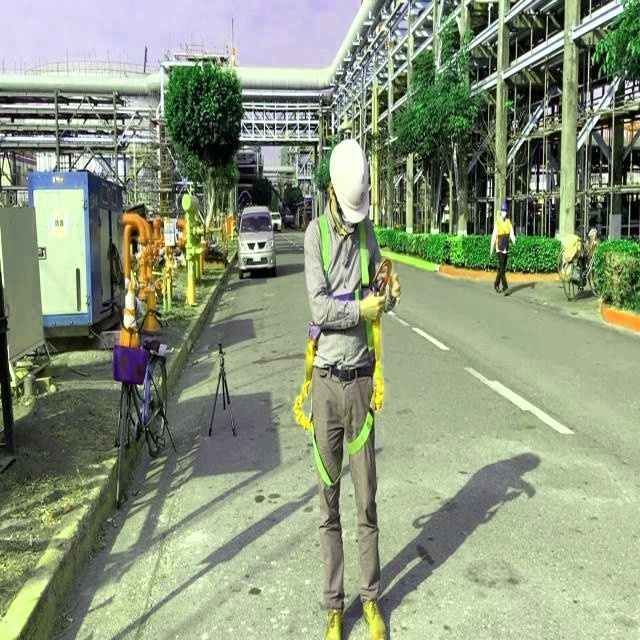safety belt: (305, 205, 400, 493)
